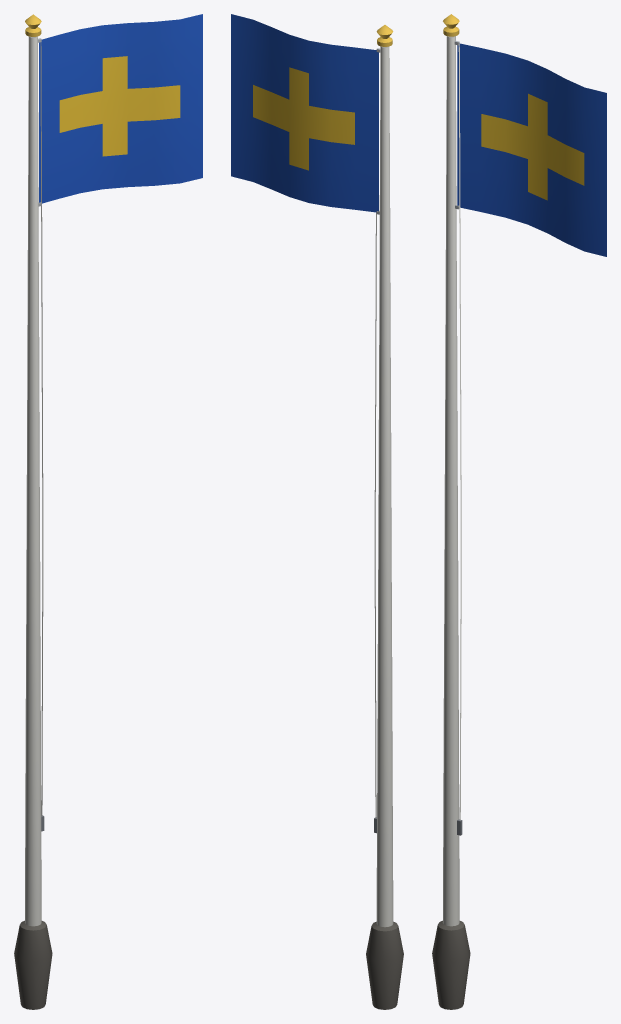
File: Flagpole_Blue.fbx
3 views of the same model, side by side, from view 1: azimuth 30°, elevation 25°; view 2: azimuth 150°, elevation 25°; view 3: azimuth 330°, elevation 25° (orthographic).
Visible parts, largest first — view 1: Flagpole_Blue_LOD0; view 2: Flagpole_Blue_LOD0; view 3: Flagpole_Blue_LOD0.
Part boxes in pixels (x1=…): Flagpole_Blue_LOD0: x1=14, y1=14, x2=202, y2=1009; Flagpole_Blue_LOD0: x1=231, y1=14, x2=403, y2=1009; Flagpole_Blue_LOD0: x1=432, y1=14, x2=606, y2=1009.
Size of what is drawn, in the model's own units: 1.83 by 9.67 by 0.34.
Materials: 1 (1 with a texture image).
